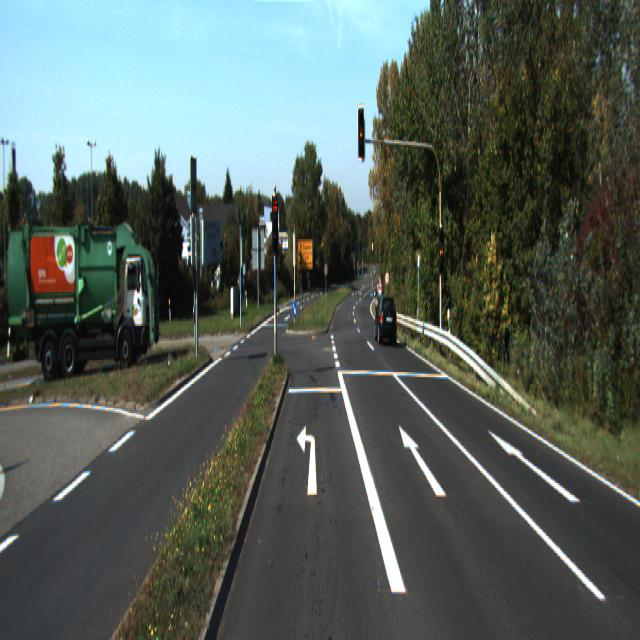Car: (3, 228, 160, 385), (374, 294, 397, 344)
